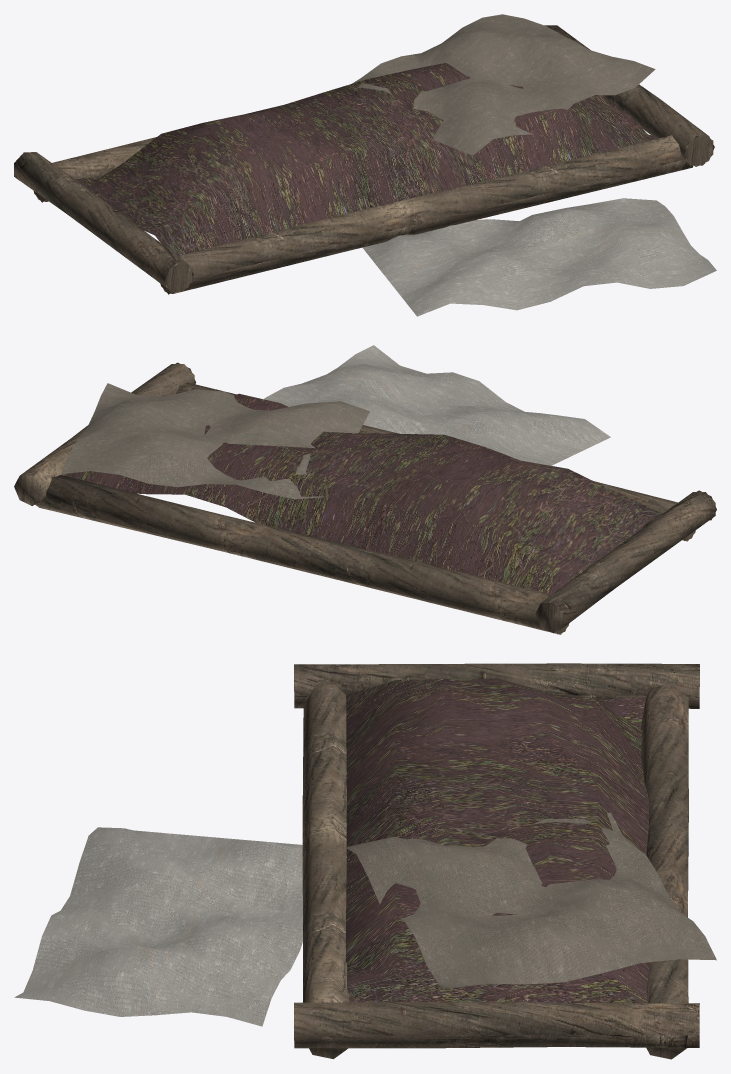
The model's file is kit_sr_heather_bed_thrown_p.glb.
3 views of the same model, one above another, from view 1: azimuth 30°, elevation 25°; view 2: azimuth 150°, elevation 25°; view 3: azimuth 270°, elevation 25° (orthographic). The views are drawn at different scales.
Parts seen in each view (by area): view 1: kit_sr_heather_bed_thrown_p; view 2: kit_sr_heather_bed_thrown_p; view 3: kit_sr_heather_bed_thrown_p.
Part boxes in pixels (x1,y1,x2,y2): kit_sr_heather_bed_thrown_p: (14, 14, 716, 316); kit_sr_heather_bed_thrown_p: (14, 345, 716, 634); kit_sr_heather_bed_thrown_p: (14, 663, 716, 1059).
Bounding box in the file's own units: 2.01 × 0.3105 × 1.66.
Materials: 1 (1 with a texture image).
